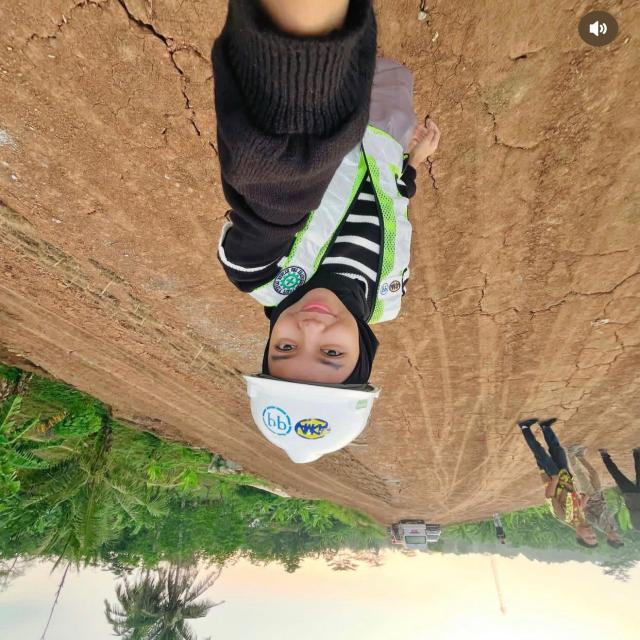safetyhelmet: (242, 276, 389, 472)
